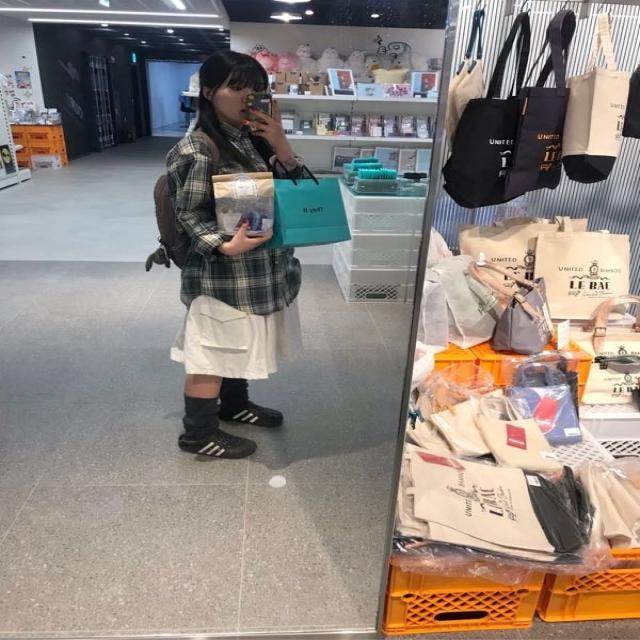shirt: (169, 116, 300, 312)
skirt: (174, 290, 294, 379)
